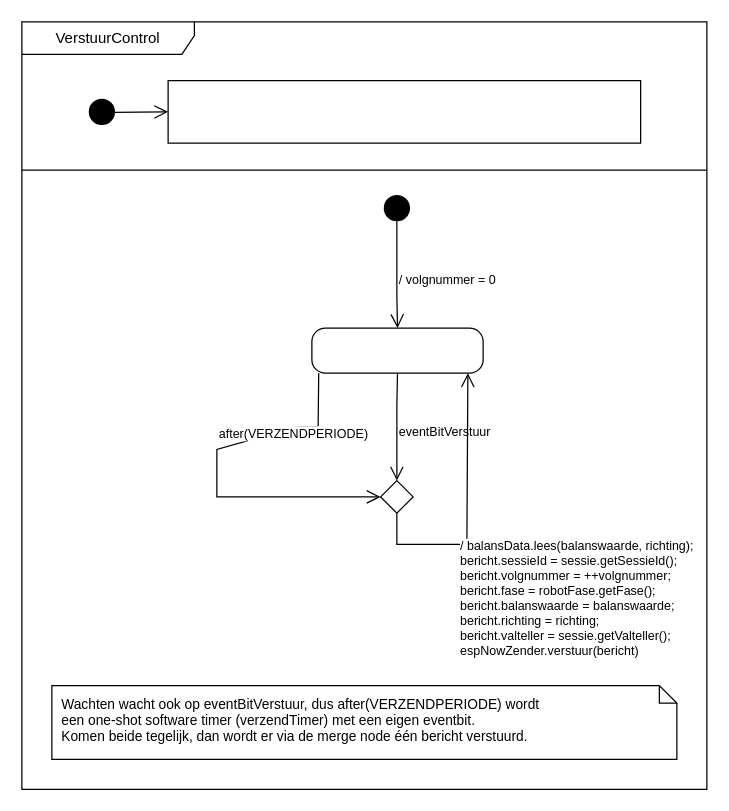
The diagram is 729 pixels wide and 811 high, and some of its shapes have lost their labels. Here are the shapes that lost their labels. From the top down, the centre of each, then its label:
At point 404,111: "<<interface>> + verstuur() / xEventGroupSetBits(eventGroup, eventBitVerstuur)".
At point 397,350: "Wachten".
